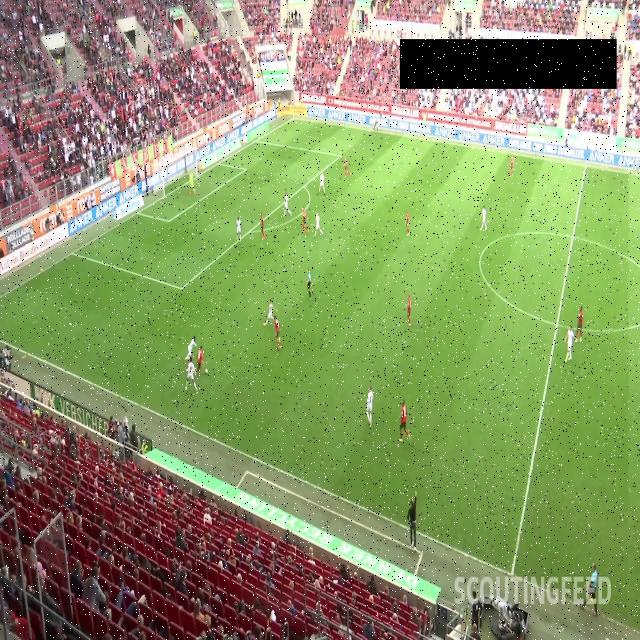Ball: (205, 368, 208, 374)
GoalKeeper: (189, 171, 195, 195)
Referee: (580, 563, 599, 617), (306, 270, 312, 300), (373, 114, 379, 132)
TEAM 1: (398, 400, 411, 442), (574, 306, 583, 344), (273, 315, 282, 349), (195, 346, 204, 373), (302, 205, 310, 234), (406, 295, 412, 326), (344, 156, 352, 178), (404, 212, 410, 237), (260, 214, 265, 239), (510, 157, 514, 177)
TEAM 2: (186, 356, 198, 393), (263, 298, 278, 326), (564, 326, 574, 364), (366, 387, 374, 427), (312, 212, 324, 238), (185, 336, 197, 361), (283, 191, 292, 217), (480, 206, 488, 232), (318, 171, 326, 194), (236, 216, 242, 241)
